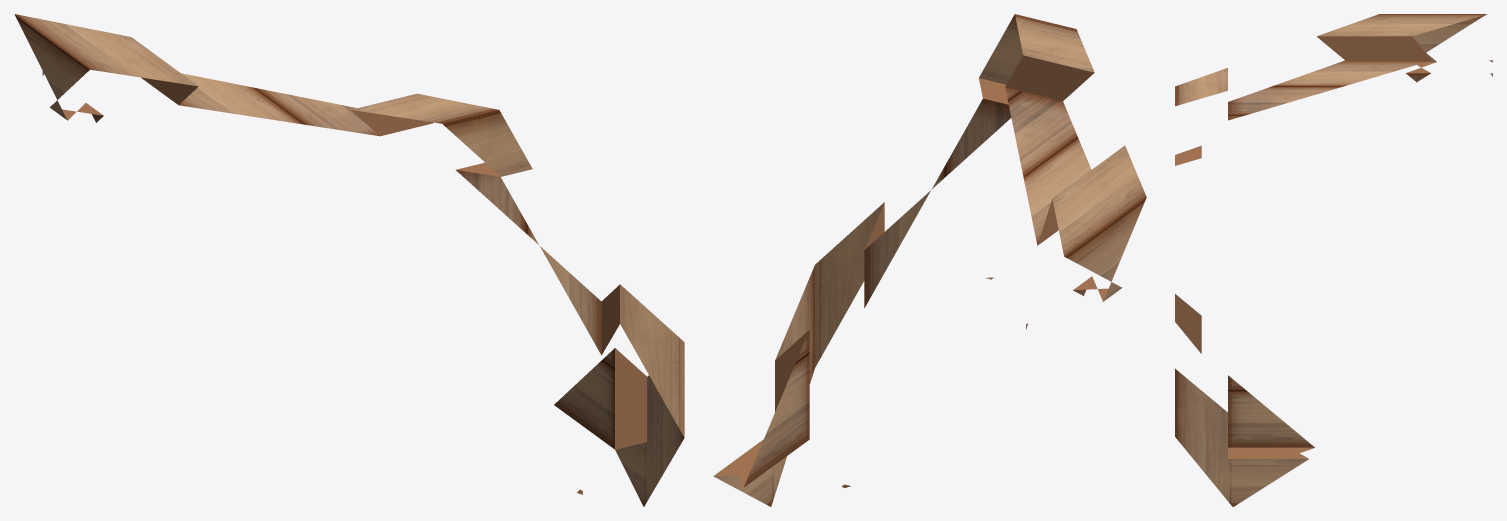
Rendered from brokenbox6.FBX.
3 views of the same model, side by side, from view 1: azimuth 30°, elevation 25°; view 2: azimuth 150°, elevation 25°; view 3: azimuth 270°, elevation 25° (orthographic). The views are drawn at different scales.
Visible parts, largest first — view 1: Box002; view 2: Box002; view 3: Box002.
Boxes of the visible parts, x1,y1,x2,y2 form: Box002: (14, 14, 684, 506); Box002: (713, 14, 1146, 506); Box002: (1175, 14, 1492, 506).
Bounding box in the file's own units: 1.4 × 1.4 × 1.2.
